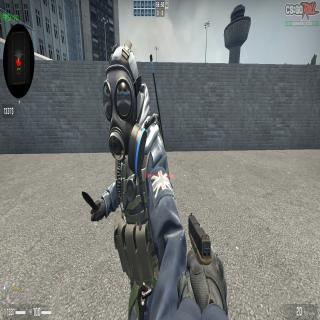CT-Body: (90, 42, 177, 320)
CT-Head: (102, 44, 142, 162)
